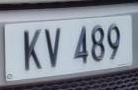4: (72, 22, 91, 68)
8: (89, 20, 108, 67)
9: (104, 20, 123, 62)
K: (21, 26, 45, 76)
V: (43, 26, 66, 70)
